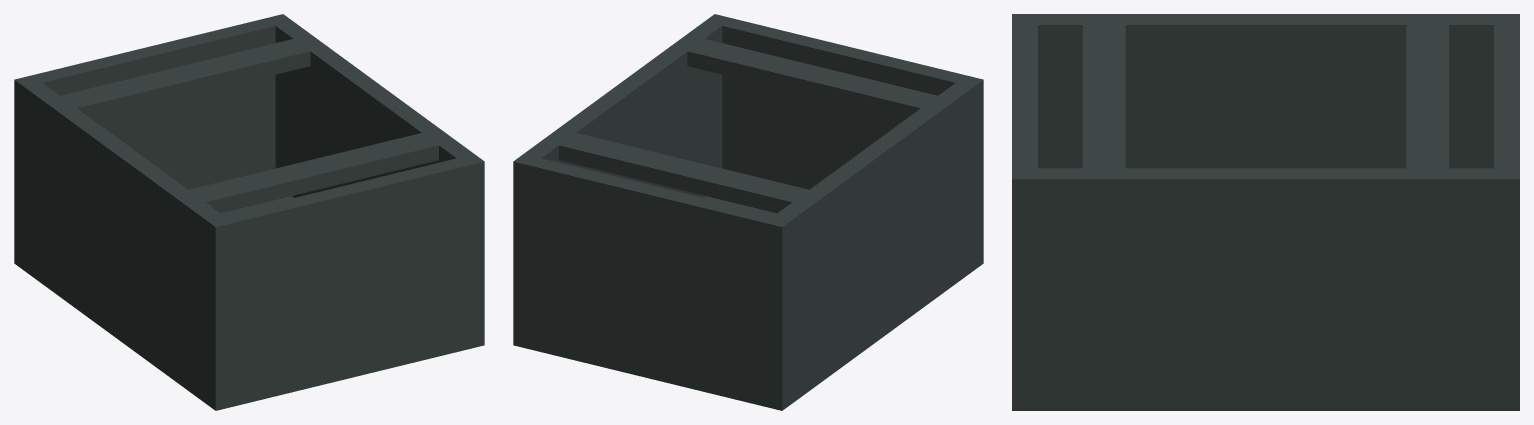
The model's file is SM_box_small_02.fbx.
The picture shows the model from 3 angles, left to right: view 1: azimuth 30°, elevation 25°; view 2: azimuth 150°, elevation 25°; view 3: azimuth 270°, elevation 25°; orthographic projection. The views are drawn at different scales.
Visible parts, largest first — view 1: box_small_02; view 2: box_small_02; view 3: box_small_02.
Part boxes in pixels (x1=…): box_small_02: x1=14, y1=14, x2=484, y2=410; box_small_02: x1=513, y1=14, x2=983, y2=410; box_small_02: x1=1012, y1=14, x2=1519, y2=410.
Bounding box in the file's own units: 45.06 × 29.42 × 58.48.
